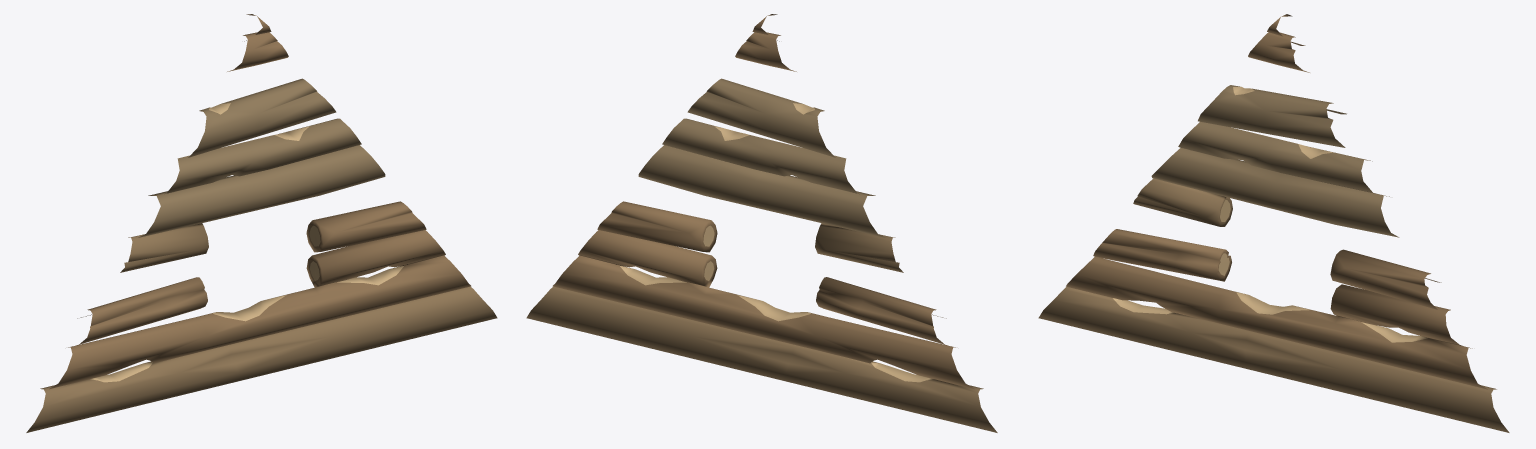
The model's file is rpgpp_av_roof_end_01_6x5_wall_window_03a.gltf.
3 renders of one model, left to right at view 1: azimuth 30°, elevation 25°; view 2: azimuth 150°, elevation 25°; view 3: azimuth 330°, elevation 25°, orthographic.
Parts seen in each view (by area): view 1: rpgpp_av_roof_end_01_6x5_wall_window_03a; view 2: rpgpp_av_roof_end_01_6x5_wall_window_03a; view 3: rpgpp_av_roof_end_01_6x5_wall_window_03a.
Part boxes in pixels (x1,y1,x2,y2): rpgpp_av_roof_end_01_6x5_wall_window_03a: (26, 14, 497, 432); rpgpp_av_roof_end_01_6x5_wall_window_03a: (526, 14, 997, 432); rpgpp_av_roof_end_01_6x5_wall_window_03a: (1038, 14, 1509, 432).
Size of the model in its own units: 0.0675 by 0.0486 by 0.00514.
1 material, 1 textured.
